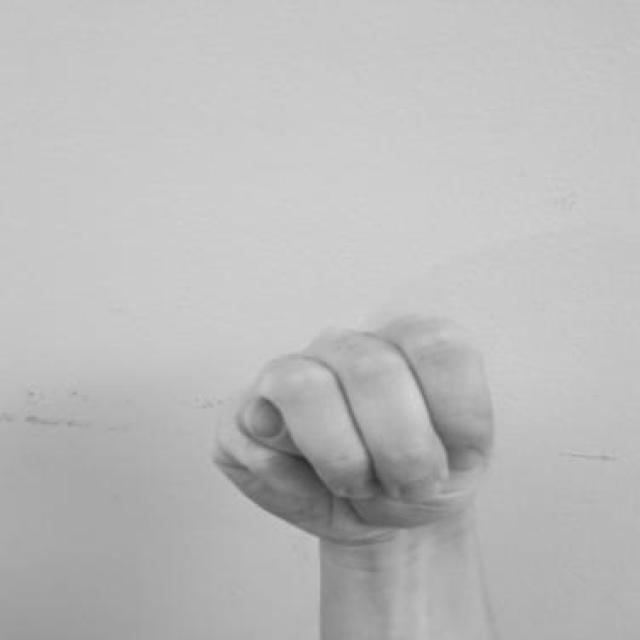M: (201, 304, 507, 551)
